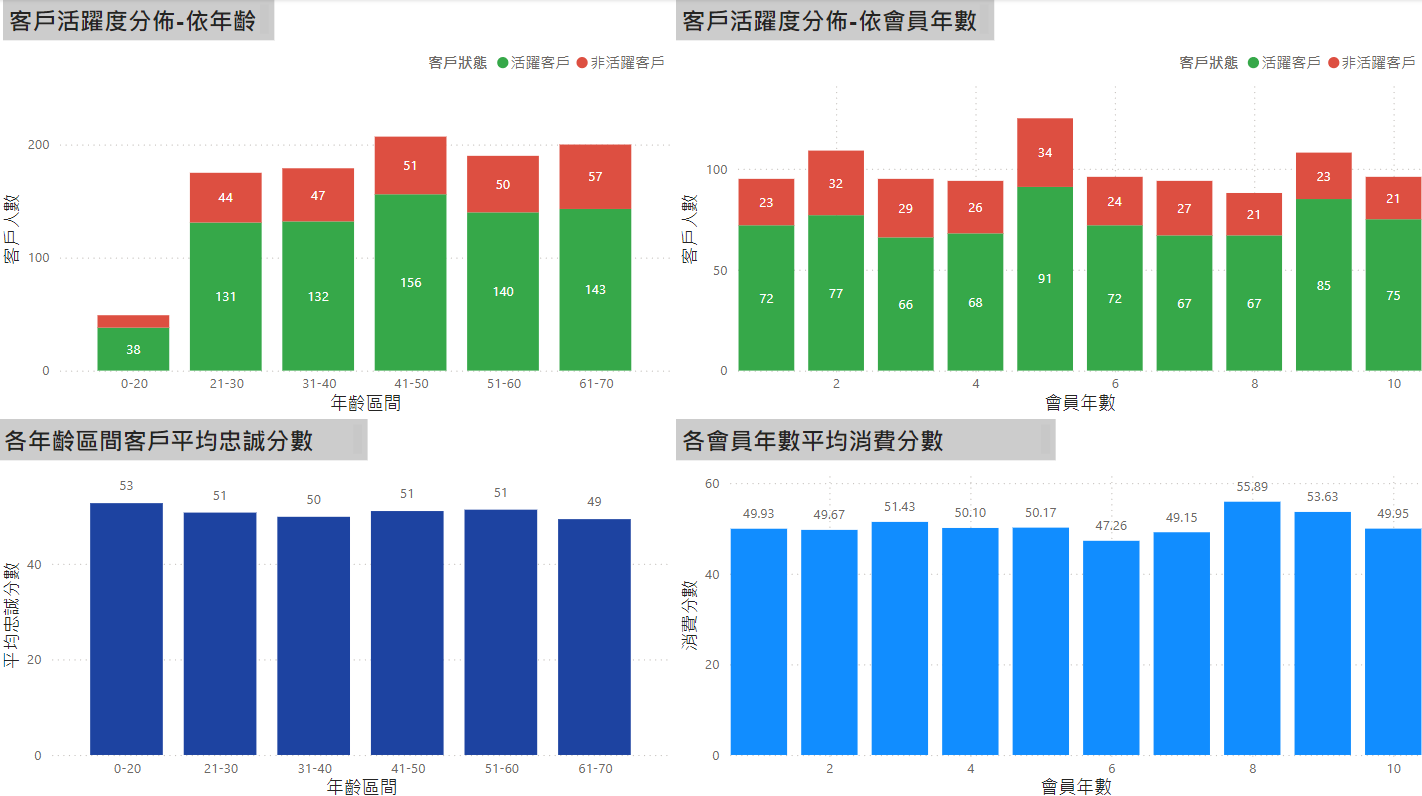

Layout of this report page (visuals, bound fields, positions):
{"tool":"powerbi","page":{"name":"第 2 頁","canvas":[1280,720],"ordinal":1},"visuals":[{"type":"columnChart","title":"客戶流失年齡分佈","fields":{"Category":["customerinfo.agegroup"],"Y":["CountNonNull(customerinfo.id)"],"Series":["customerinfo.CustomerStatus"]},"box":[0,36.7,607.2,339.4],"z":0},{"type":"columnChart","title":"客戶流失會員年數分佈","fields":{"Category":["customerinfo.membership_years"],"Y":["CountNonNull(customerinfo.id)"],"Series":["customerinfo.CustomerStatus"]},"box":[607.2,36.7,672.5,339.4],"z":1000},{"type":"textbox","box":[4.5,0,242.7,36.7],"z":2000},{"type":"textbox","box":[607.2,0,284.8,36.7],"z":3000},{"type":"lineStackedColumnComboChart","fields":{"Category":["customerinfo.agegroup"],"Y":["Avg(customerinfo.loyaltyscore)"]},"box":[0,412.8,607.2,307.2],"z":4000},{"type":"textbox","box":[0,376.1,331.3,36.7],"z":5000},{"type":"columnChart","fields":{"Category":["customerinfo.membership_years"],"Y":["Avg(customerinfo.spending_score)"]},"box":[607.2,412.8,672.5,307.2],"z":6000},{"type":"textbox","box":[607.2,376.1,340.3,36.7],"z":7000}]}

Visuals, with their boxes in screenshot pixels (x1, y1, x2, y2), scaled from the page's 1280x720 canvas onto the 1422x796 screenshot:
"客戶流失年齡分佈" columnChart: 0/41/675/416
"客戶流失會員年數分佈" columnChart: 675/41/1421/416
textbox: 5/0/275/41
textbox: 675/0/991/41
lineStackedColumnComboChart - customerinfo.agegroup x Avg(customerinfo.loyaltyscore): 0/456/675/795
textbox: 0/416/368/456
columnChart - customerinfo.membership_years x Avg(customerinfo.spending_score): 675/456/1421/795
textbox: 675/416/1053/456
